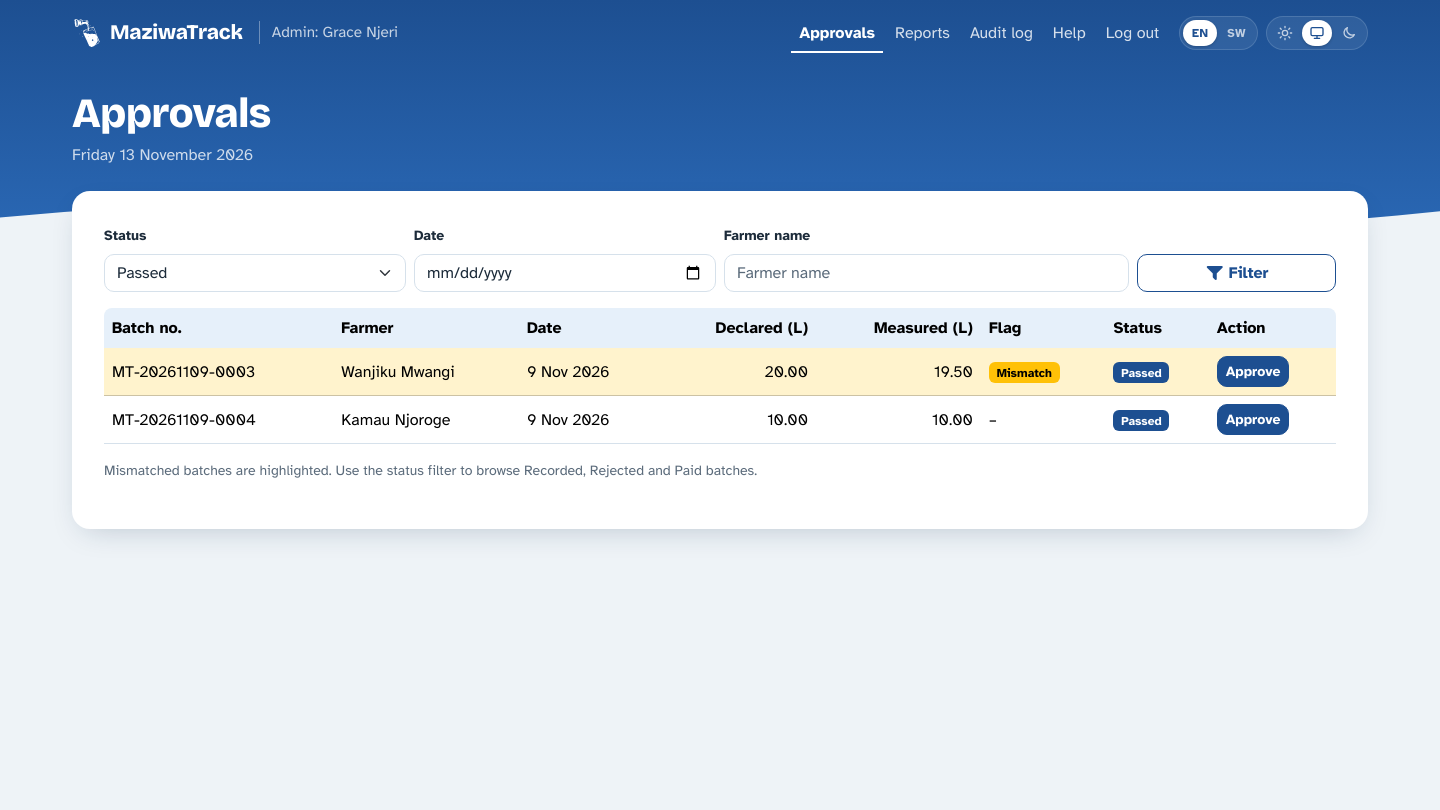
Test: Approvals › Cancel closes the pop-up without paying
Click the button "Approve" in the row of "MT-20261109-0004": click(1253, 420) [1217, 404, 1289, 435]
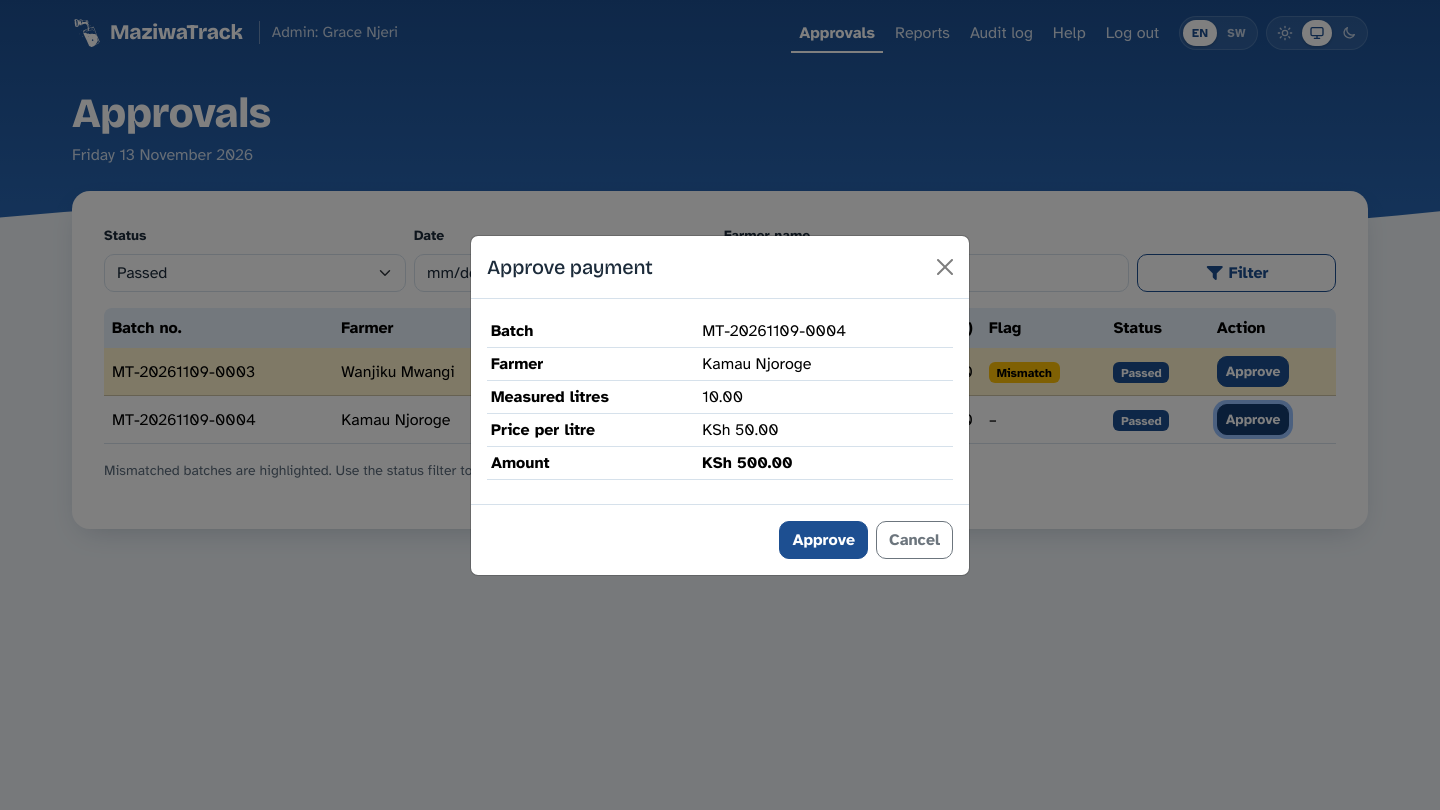
Click the button "Cancel": click(914, 540) [876, 520, 953, 558]
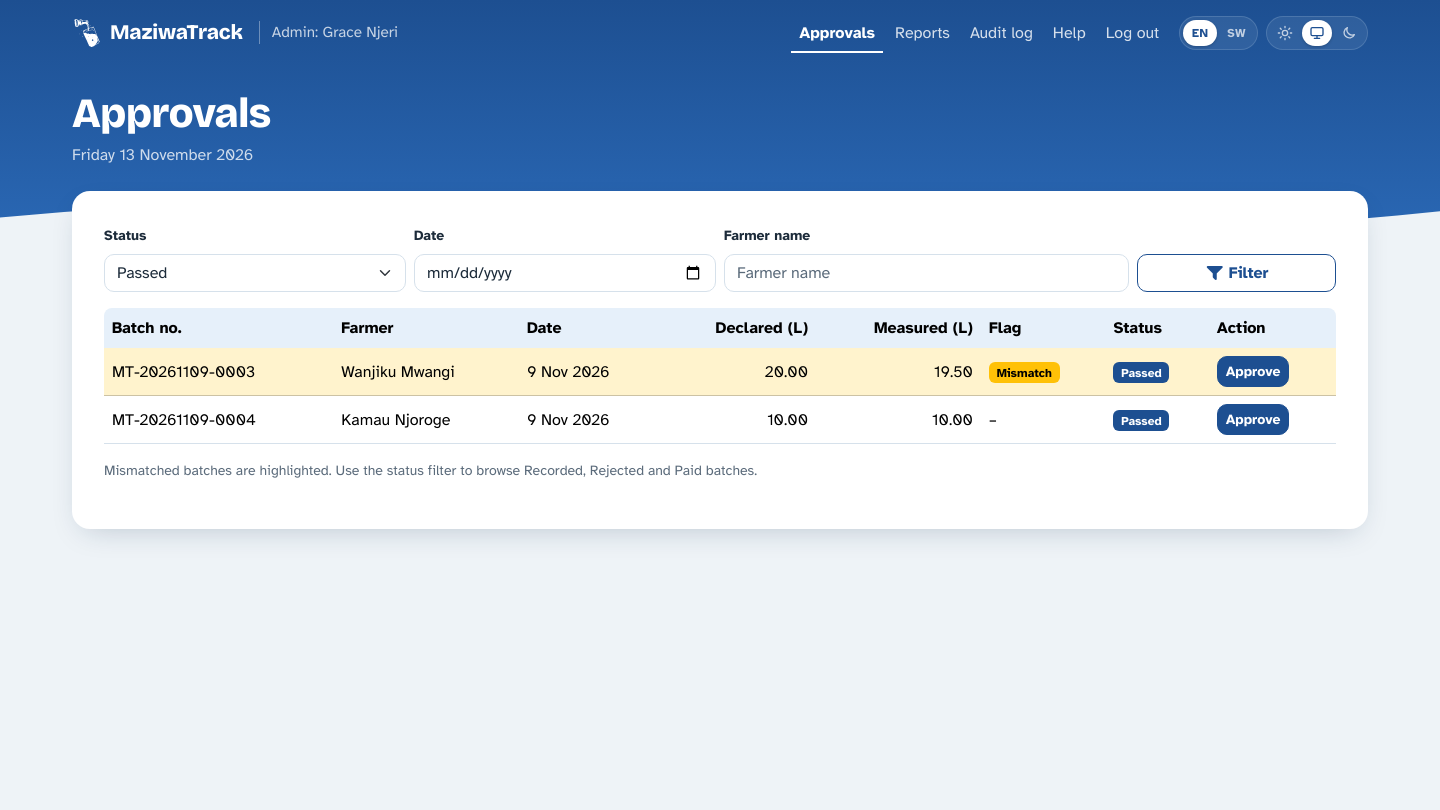
Expected: the dialog is gone
